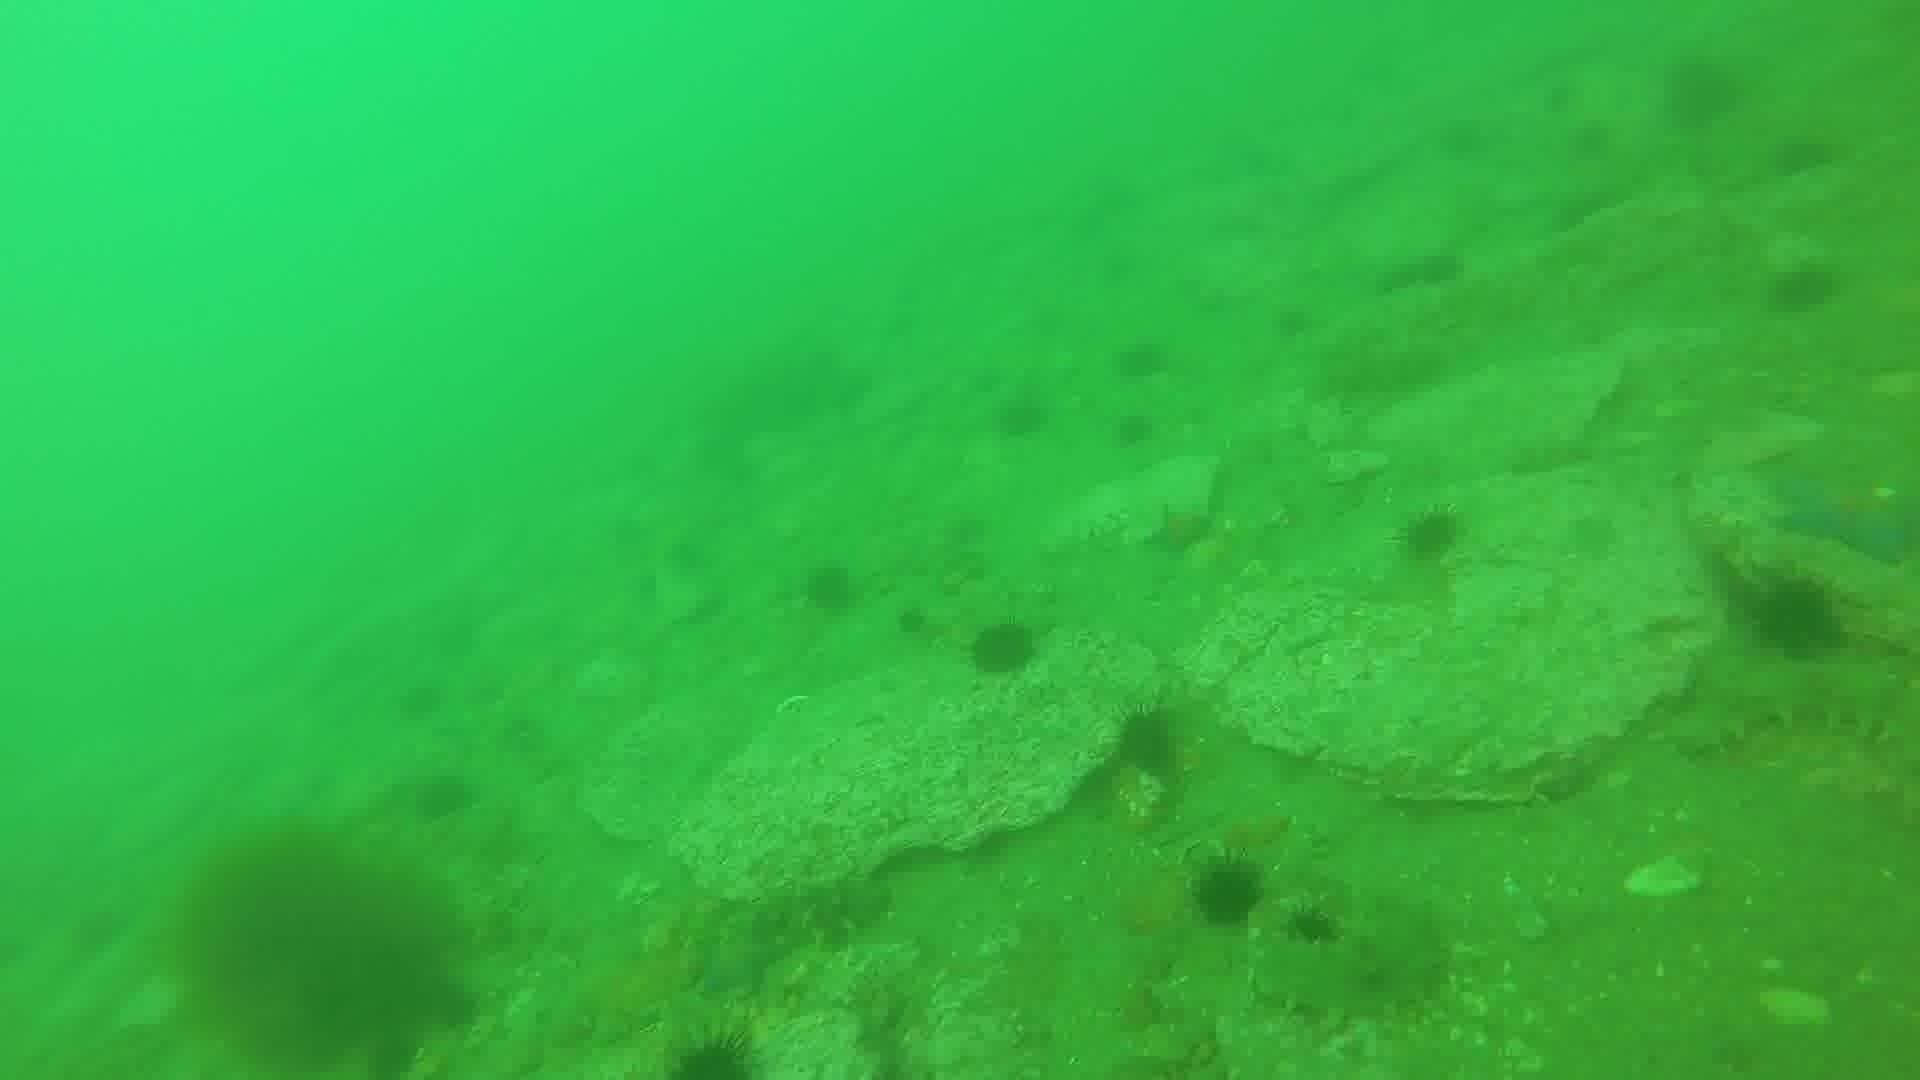echinus: (1747, 574, 1850, 663), (1659, 50, 1745, 132), (1109, 702, 1189, 783), (1187, 855, 1269, 931), (662, 1026, 767, 1077), (964, 615, 1043, 682), (1764, 257, 1844, 319), (1393, 502, 1468, 567), (409, 769, 480, 829), (1770, 128, 1844, 183), (796, 558, 862, 618), (1561, 506, 1625, 566), (990, 389, 1054, 444), (1283, 901, 1345, 952), (1110, 335, 1171, 386), (1410, 247, 1462, 287), (1112, 409, 1158, 451), (1378, 253, 1418, 291), (893, 601, 932, 640)
holothurian: (1249, 899, 1457, 1033), (1664, 655, 1912, 760), (684, 873, 887, 1000)
starfish: (1768, 467, 1913, 567), (684, 922, 793, 1001), (1141, 498, 1218, 560)
